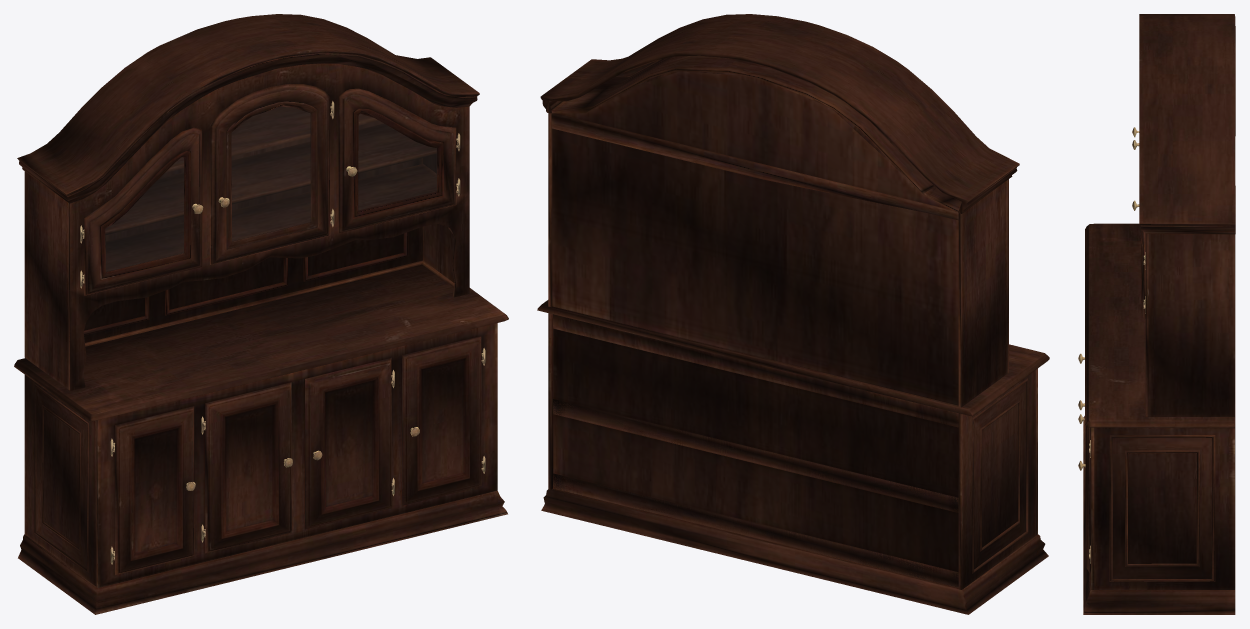
The model's file is vintage_cabinet_01.glb.
3 renders of one model, left to right at view 1: azimuth 30°, elevation 25°; view 2: azimuth 150°, elevation 25°; view 3: azimuth 270°, elevation 25°, orthographic. The views are drawn at different scales.
Visible parts, largest first — view 1: vintage_cabinet_01_body, vintage_cabinet_01_door_03, vintage_cabinet_01_door_01, vintage_cabinet_01_door_04, vintage_cabinet_01_door_07, vintage_cabinet_01_door_06, vintage_cabinet_01_door_02, vintage_cabinet_01_door_05; view 2: vintage_cabinet_01_body; view 3: vintage_cabinet_01_body, vintage_cabinet_01_door_02, vintage_cabinet_01_door_04.
Boxes of the visible parts, x1,y1,x2,y2 form: vintage_cabinet_01_body: (14, 14, 508, 614); vintage_cabinet_01_door_03: (210, 84, 332, 264); vintage_cabinet_01_door_01: (82, 127, 203, 295); vintage_cabinet_01_door_04: (338, 88, 458, 233); vintage_cabinet_01_door_07: (305, 357, 392, 529); vintage_cabinet_01_door_06: (204, 382, 292, 553); vintage_cabinet_01_door_02: (402, 336, 483, 505); vintage_cabinet_01_door_05: (113, 406, 195, 575); vintage_cabinet_01_body: (537, 14, 1049, 614); vintage_cabinet_01_body: (1083, 14, 1235, 614); vintage_cabinet_01_door_02: (1078, 426, 1090, 573); vintage_cabinet_01_door_04: (1132, 200, 1145, 319).
Size of the model in its own units: 2.02 by 2.23 by 0.6698.
Materials: 3 (2 with a texture image).
